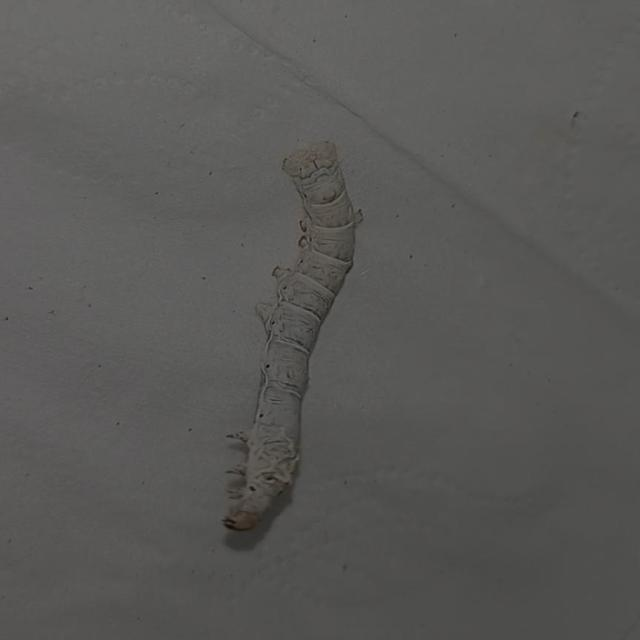Healthy: (207, 132, 378, 545)
